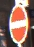No entry: (6, 5, 29, 41)
